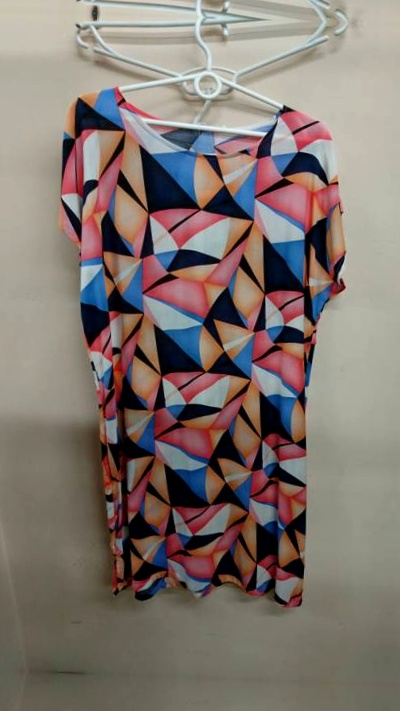Dress: (25, 61, 382, 628)
